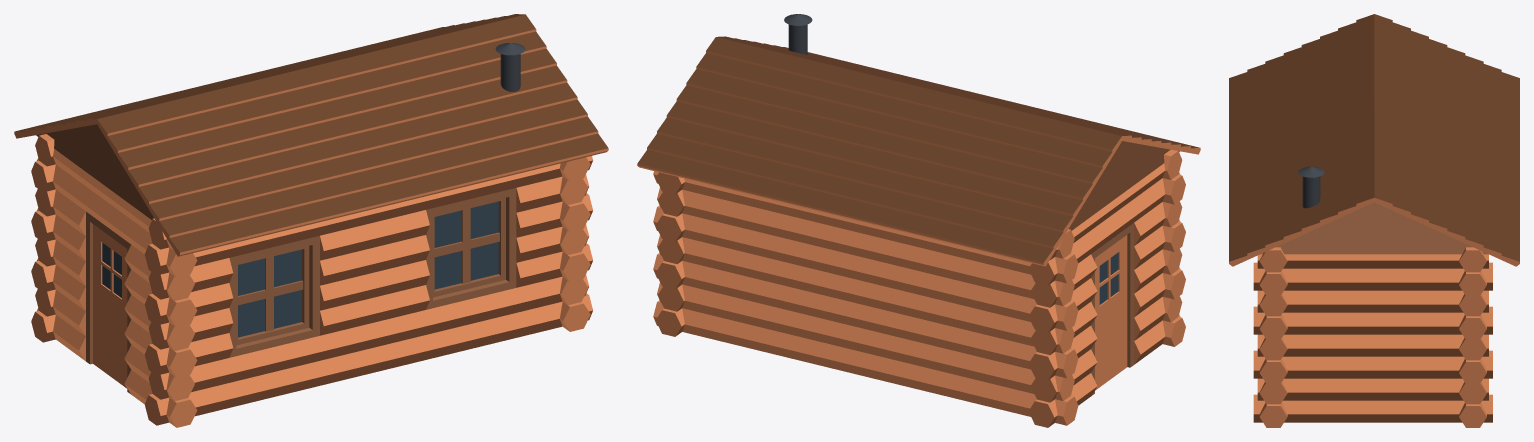
File: house.fbx
3 renders of one model, left to right at view 1: azimuth 30°, elevation 25°; view 2: azimuth 150°, elevation 25°; view 3: azimuth 270°, elevation 25°, orthographic. The views are drawn at different scales.
Visible parts, largest first — view 1: cabinRoofCenter (×2), cabinWindow (×2), cabinDoor, cabinCorner (×3), cabinSideCenter, cylinder; view 2: cabinRoofCenter (×2), cabinWall (×2), cabinDoor, cabinCorner (×3), cabinSideCenter, cylinder; view 3: cabinRoofCenter (×2), cabinWall, cabinCorner (×2), cabinSideCenter, cylinder.
Boxes of the visible parts, x1,y1,x2,y2 form: cabinRoofCenter (×2): (14,14,608,256); cabinWindow (×2): (188,163,562,416); cabinDoor: (53,149,152,403); cabinCorner (×3): (31,134,592,427); cabinSideCenter: (36,124,153,219); cylinder: (500,54,520,91); cabinRoofCenter (×2): (637,36,1200,266); cabinWall (×2): (682,178,1036,416); cabinDoor: (1071,163,1165,405); cabinCorner (×3): (653,149,1185,427); cabinSideCenter: (1069,141,1179,230); cylinder: (788,24,807,54); cabinRoofCenter (×2): (1229,14,1519,266); cabinWall: (1281,254,1464,422); cabinCorner (×2): (1253,247,1492,427); cabinSideCenter: (1261,202,1487,254); cylinder: (1302,176,1320,208).
Size of the model in its own units: 22 by 13.19 by 14.59.
